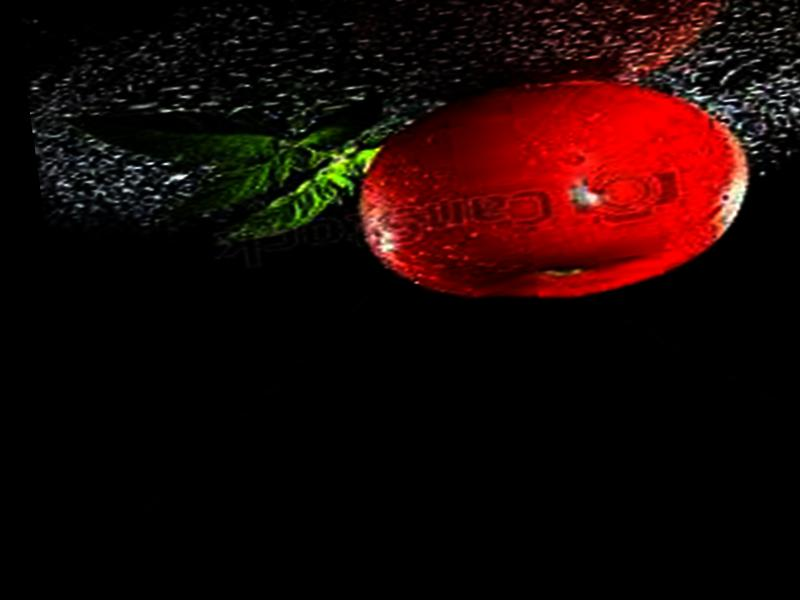Tomato: (345, 57, 761, 324)
